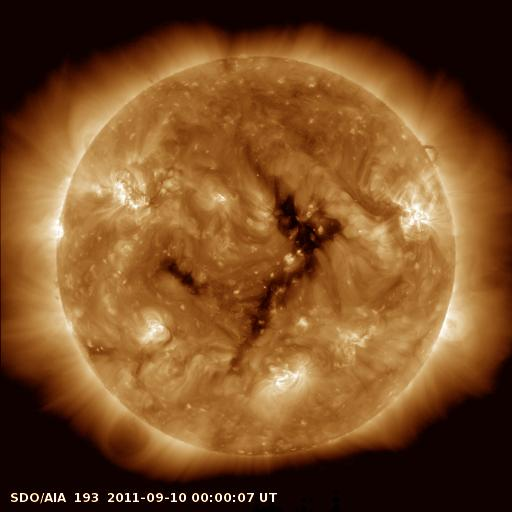coronal_hole: (231, 150, 349, 364), (156, 250, 205, 291)
